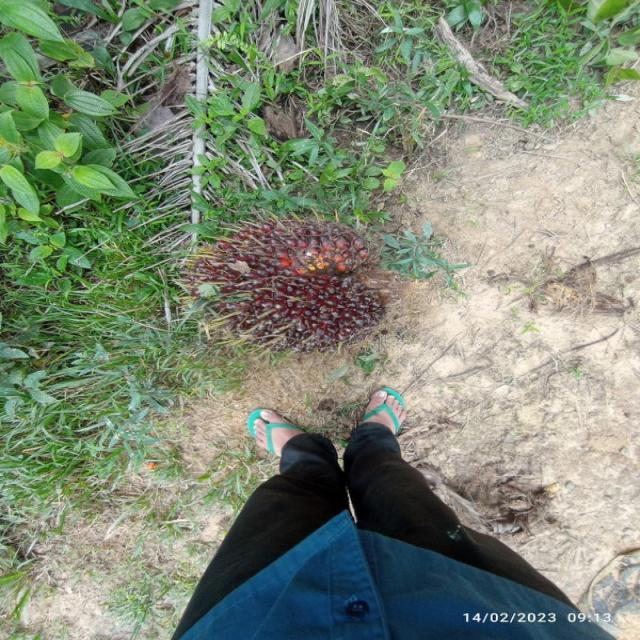fraksi 1: (187, 211, 398, 360)
